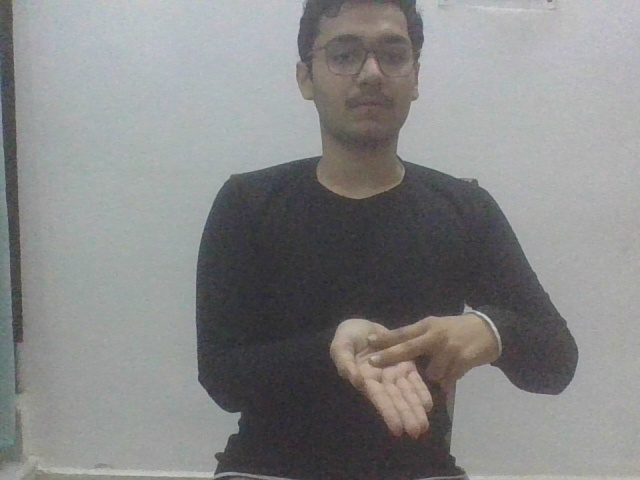N: (327, 313, 510, 440)
